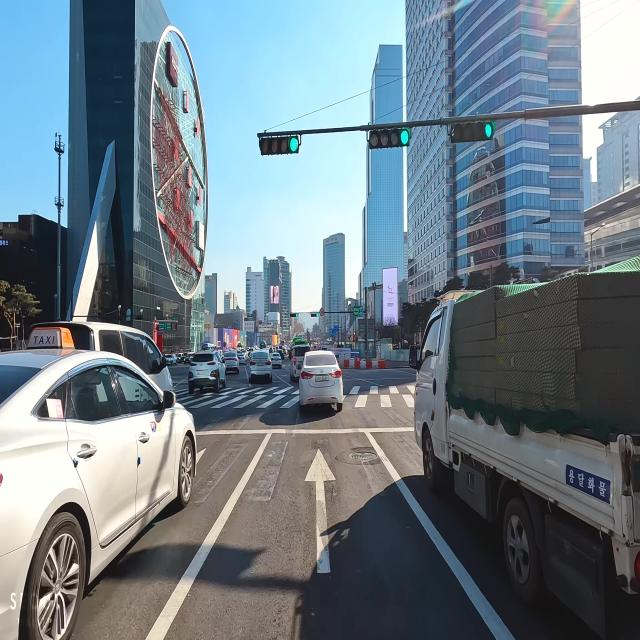Green Light: (288, 137, 299, 155), (484, 122, 493, 141), (400, 128, 409, 146)
